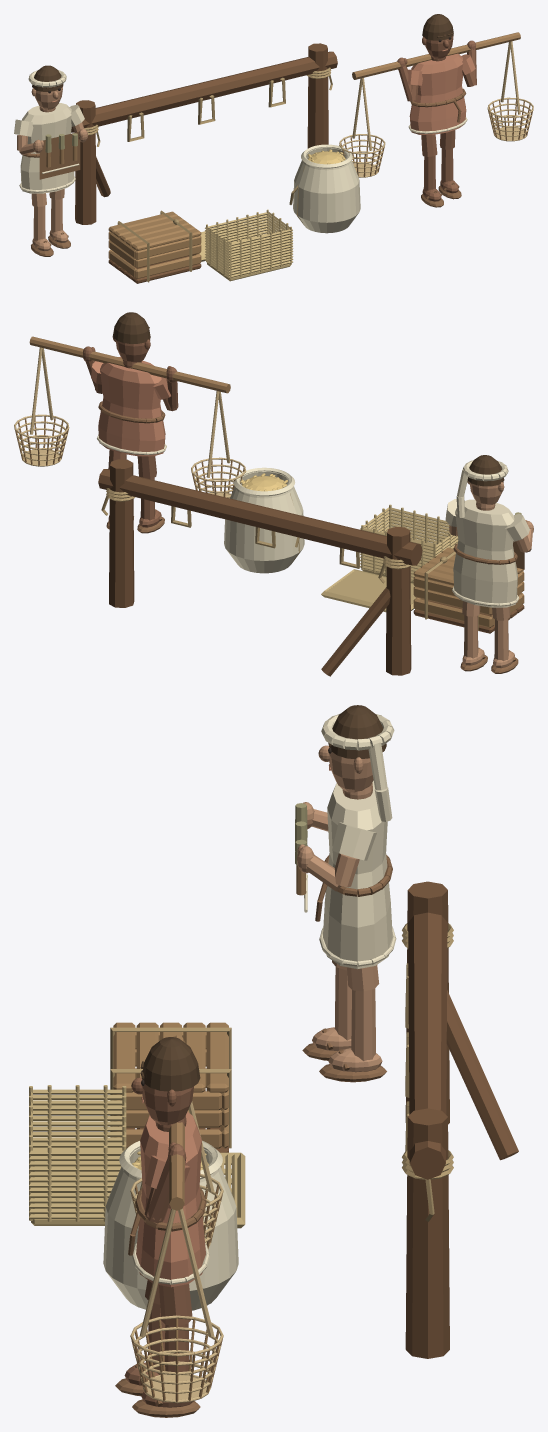
3 renders of one model, top to bottom at view 1: azimuth 30°, elevation 25°; view 2: azimuth 150°, elevation 25°; view 3: azimuth 270°, elevation 25°, orthographic. The views are drawn at different scales.
Parts seen in each view (by area): view 1: BA-0094 batched; view 2: BA-0094 batched; view 3: BA-0094 batched.
Boxes of the visible parts, x1,y1,x2,y2 form: BA-0094 batched: (14, 14, 533, 283); BA-0094 batched: (14, 312, 533, 676); BA-0094 batched: (29, 705, 518, 1417).
Size of the model in its own units: 4.68 by 1.72 by 2.1.
